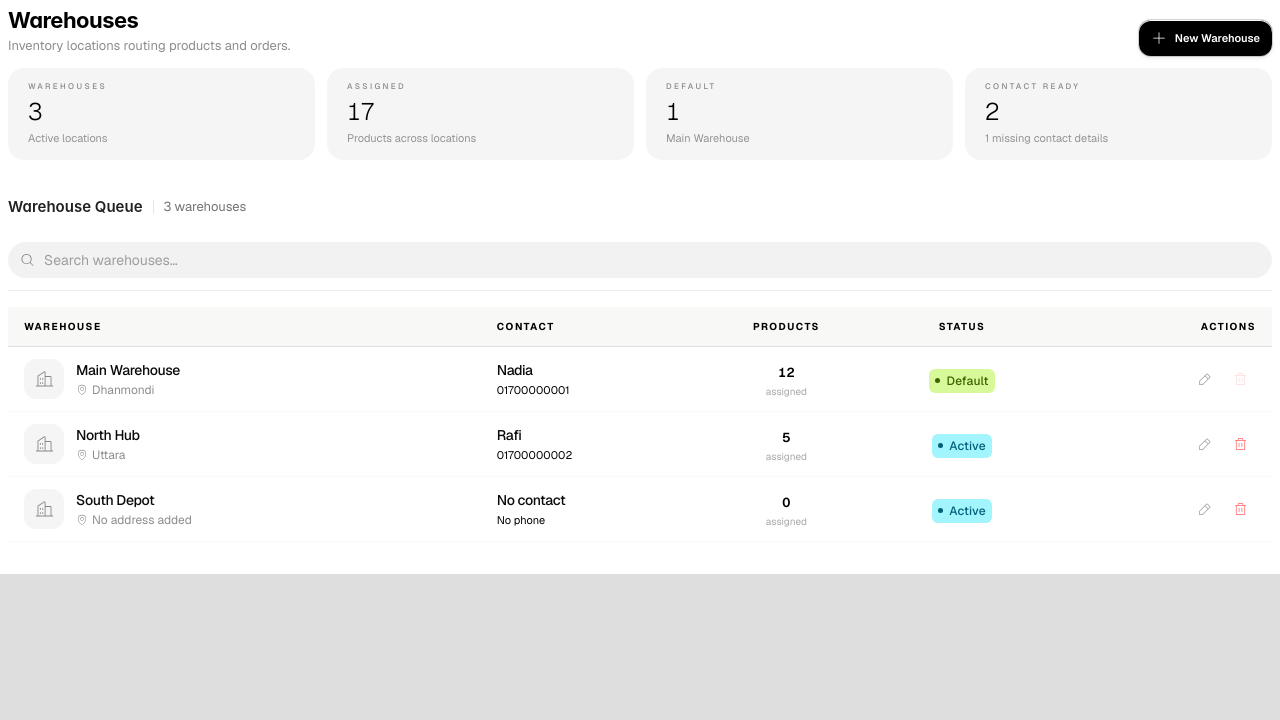
warehouse directory › opens the create dialog and protects the default warehouse from deletion
Expected: the button named "Delete Main Warehouse" is disabled, [1224, 363, 1256, 395]
Click the button "New Warehouse" at [1205, 38], box [1139, 20, 1272, 56]
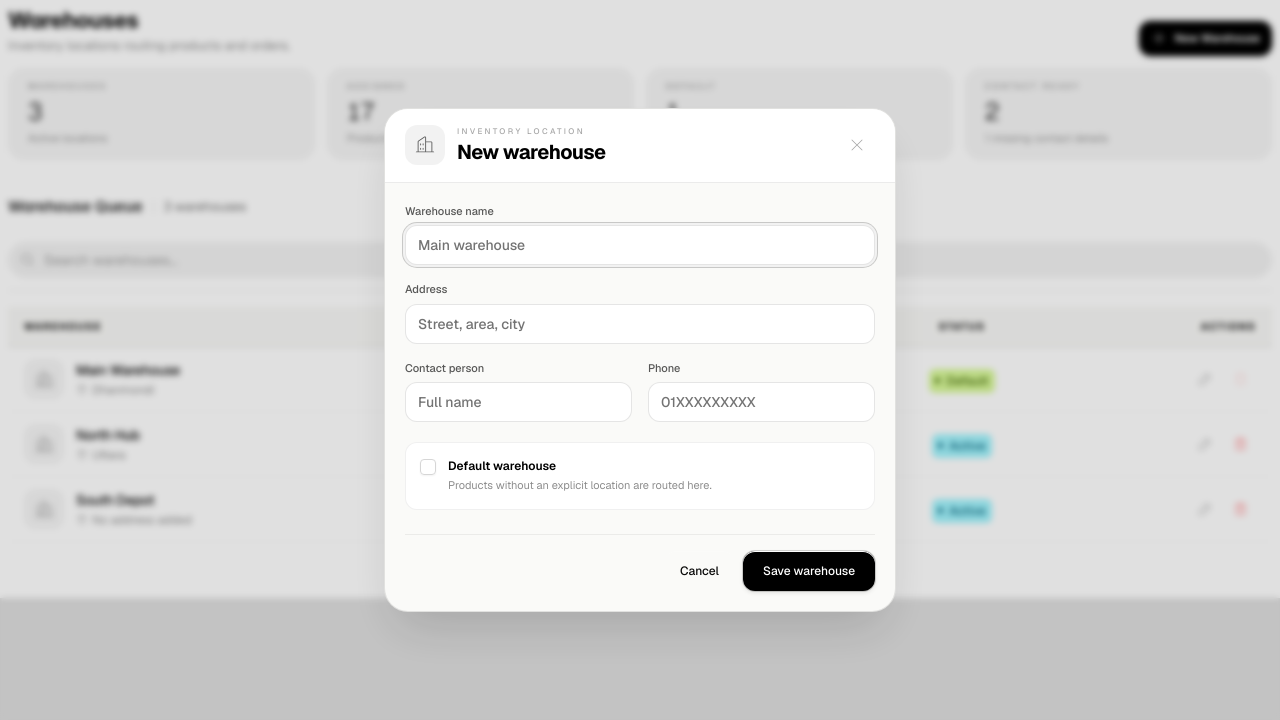
Now the dialog "New warehouse" is shown, box [384, 108, 896, 612]
